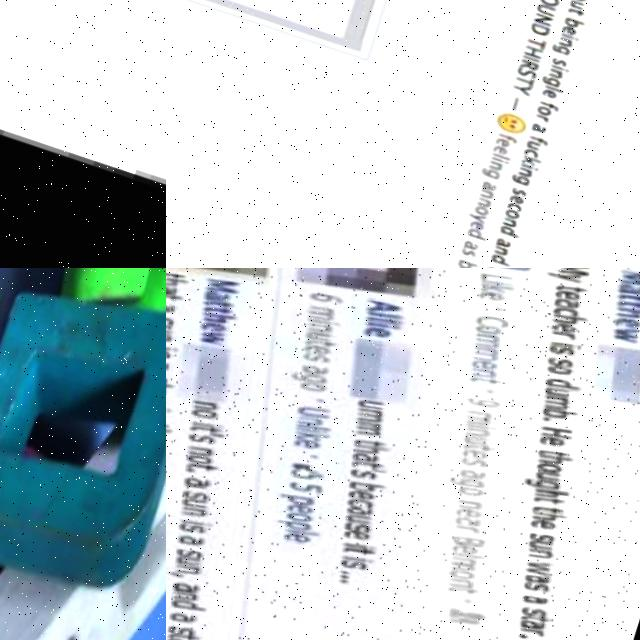5: (282, 476, 322, 501)
6: (305, 287, 345, 312)
9: (460, 392, 500, 417)
A: (457, 240, 475, 254), (489, 237, 508, 250), (476, 181, 495, 194), (528, 124, 544, 136)
B: (560, 17, 584, 35), (450, 258, 473, 268)
C: (501, 202, 520, 215), (520, 149, 536, 161)
D: (0, 268, 166, 594), (526, 23, 549, 39), (462, 228, 485, 243), (494, 226, 516, 241), (484, 254, 507, 268)
E: (557, 24, 577, 37), (463, 220, 481, 234), (487, 145, 506, 158), (539, 89, 555, 102), (491, 138, 507, 151), (504, 195, 520, 207)
F: (535, 101, 558, 115), (524, 136, 547, 150), (494, 133, 515, 145)
G: (0, 268, 52, 561), (505, 174, 528, 188), (538, 75, 558, 91), (476, 168, 497, 182), (548, 44, 568, 58)
H: (519, 45, 542, 62)
I: (546, 65, 567, 76), (515, 163, 535, 174), (557, 34, 578, 44), (486, 157, 506, 167), (519, 57, 538, 65)
J: (0, 0, 166, 268)
K: (516, 156, 539, 170)
L: (541, 86, 560, 96), (489, 154, 508, 162)
N: (531, 13, 552, 29), (554, 38, 571, 50), (497, 219, 514, 231), (488, 246, 505, 258), (474, 189, 491, 201), (546, 69, 561, 82), (513, 167, 529, 179), (484, 161, 500, 173), (472, 198, 488, 210)
O: (536, 0, 558, 10), (533, 106, 550, 118), (500, 210, 517, 222), (469, 206, 485, 218), (567, 0, 586, 5)
R: (516, 59, 537, 74), (532, 115, 547, 124)
S: (513, 67, 535, 82), (506, 187, 525, 200), (456, 248, 473, 260), (549, 58, 565, 70)
T: (510, 74, 533, 91), (522, 36, 543, 53), (565, 9, 582, 19)
U: (532, 3, 555, 19), (523, 140, 538, 153), (568, 1, 583, 13)
Y: (506, 82, 529, 99), (462, 212, 483, 226)
